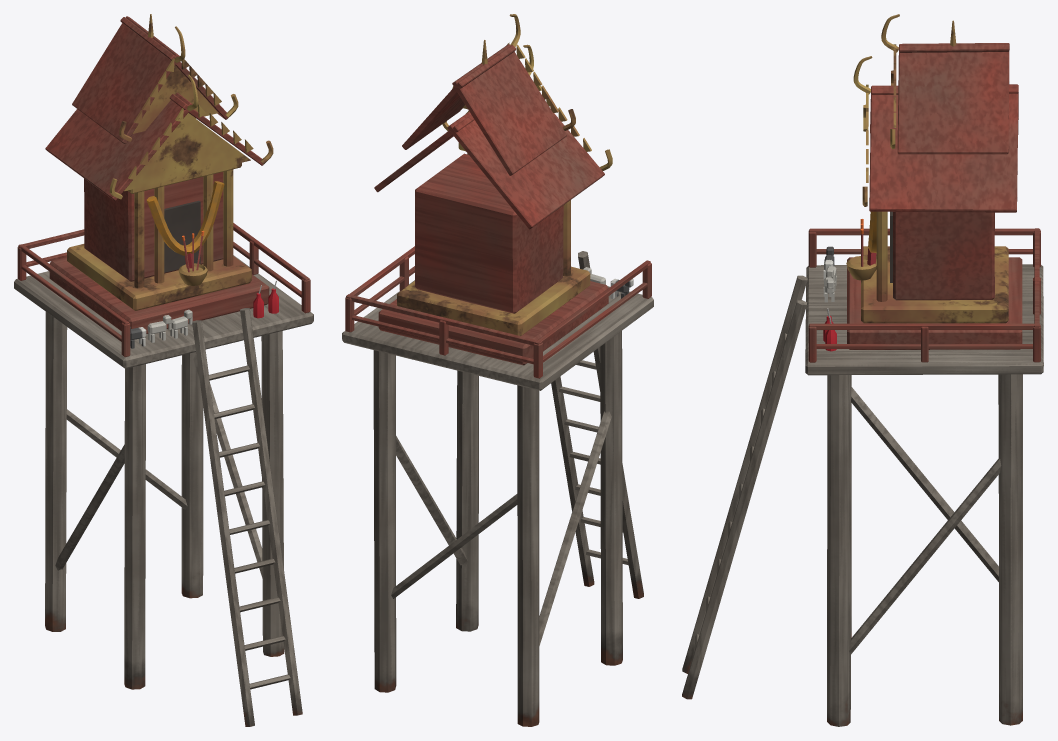
File: SpiritHouseOnStilts_Fixed.fbx
3 renders of one model, left to right at view 1: azimuth 30°, elevation 25°; view 2: azimuth 150°, elevation 25°; view 3: azimuth 270°, elevation 25°, orthographic. The views are drawn at different scales.
Visible parts, largest first — view 1: SpiritHouseOnStilts; view 2: SpiritHouseOnStilts; view 3: SpiritHouseOnStilts.
Boxes of the visible parts, bbox=[...] form: SpiritHouseOnStilts: bbox=[14, 14, 313, 726]; SpiritHouseOnStilts: bbox=[342, 14, 653, 726]; SpiritHouseOnStilts: bbox=[682, 14, 1043, 726].
Bounding box in the file's own units: 101 × 314 × 154.
